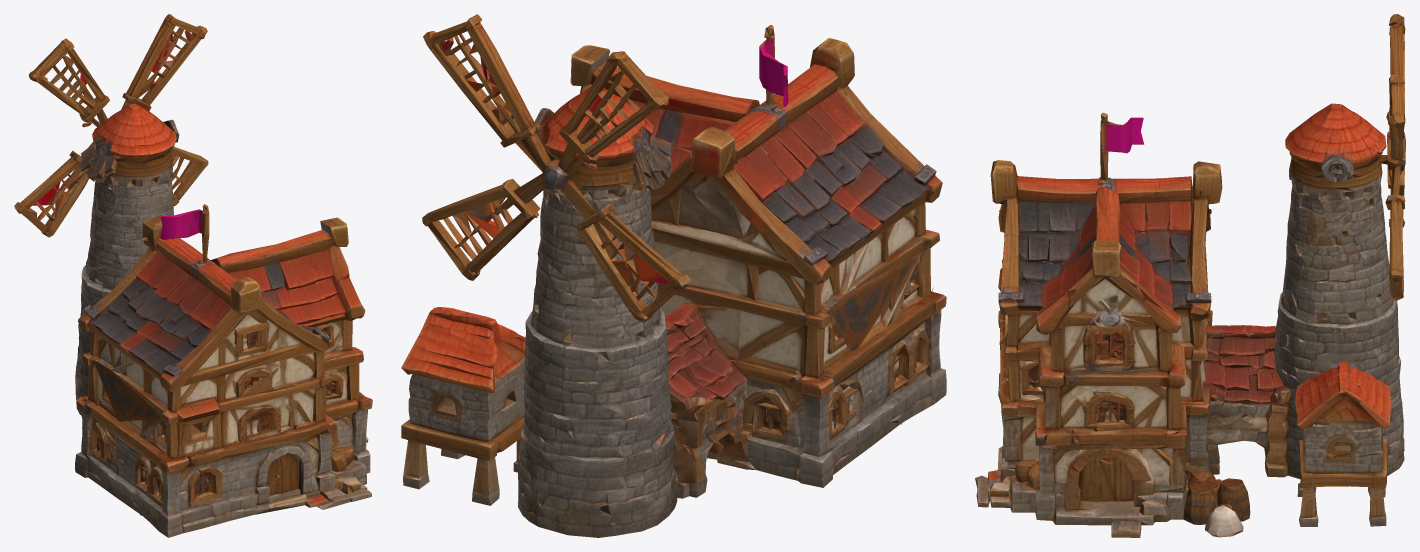
The model's file is farm3.glb.
3 views of the same model, side by side, from view 1: azimuth 30°, elevation 25°; view 2: azimuth 150°, elevation 25°; view 3: azimuth 270°, elevation 25° (orthographic). The views are drawn at different scales.
Visible parts, largest first — view 1: Mesh_0; view 2: Mesh_0; view 3: Mesh_0.
Boxes of the visible parts, box(x1,y1,x2,y2) form: Mesh_0: box(14, 14, 372, 537); Mesh_0: box(401, 14, 946, 537); Mesh_0: box(975, 14, 1405, 537).
Size of the model in its own units: 1.4 by 1.9 by 1.77.
1 material, 1 textured.
